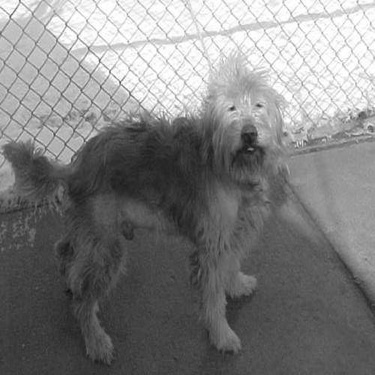dog: (3, 46, 288, 369)
